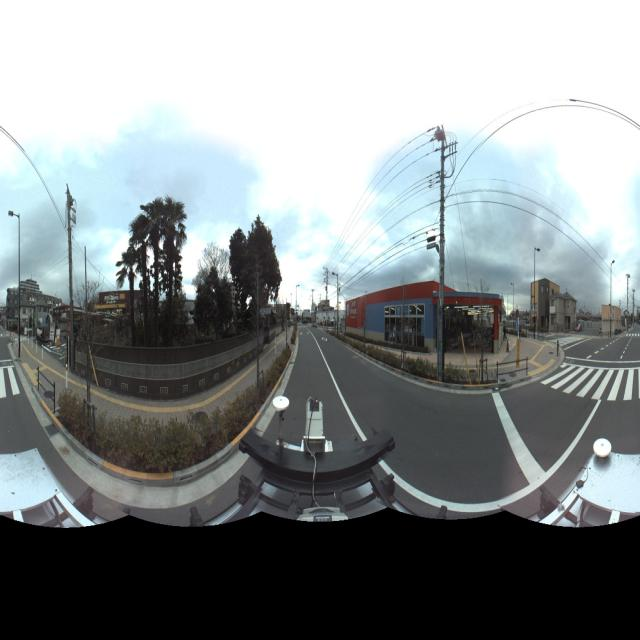b_1: (341, 266, 495, 340), (3, 272, 48, 326), (528, 274, 556, 330), (546, 294, 579, 340), (600, 296, 622, 340)
